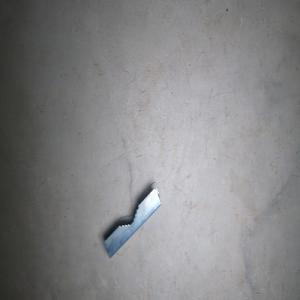ClampPart: (102, 181, 161, 259)
